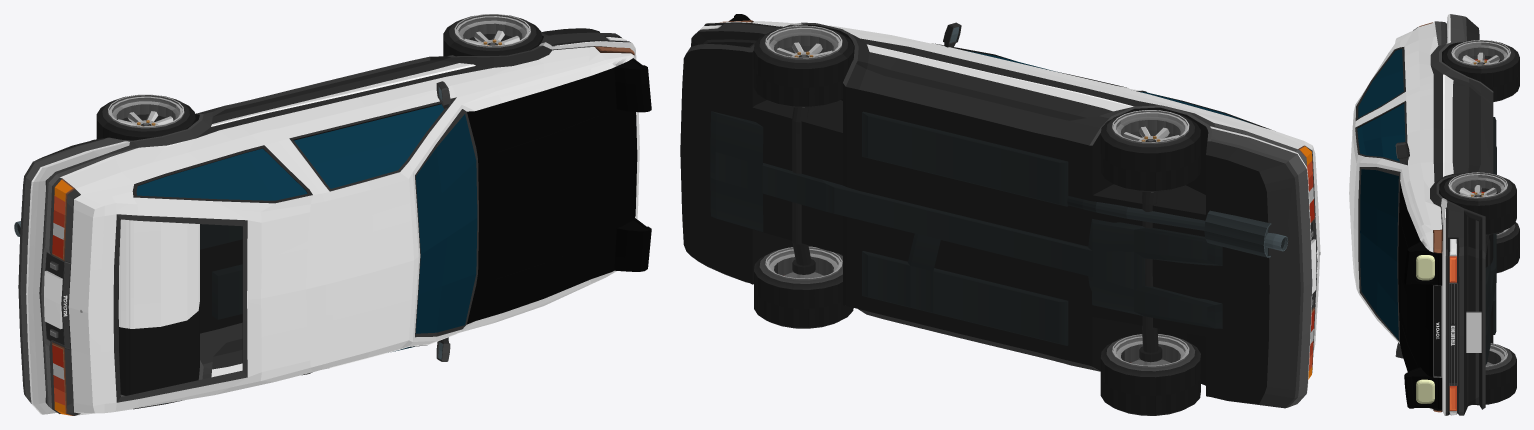
Rendered from AE86_FULL.glb.
3 views of the same model, side by side, from view 1: azimuth 30°, elevation 25°; view 2: azimuth 150°, elevation 25°; view 3: azimuth 270°, elevation 25° (orthographic). The views are drawn at different scales.
Visible parts, largest first — view 1: body.001, rear_left.001, front_left.001; view 2: body.001, rear_left.001, front_left.001, rear_right.001, front_right.001; view 3: body.001, front_left.001, rear_left.001, front_right.001, rear_right.001.
Boxes of the visible parts, x1,y1,x2,y2 form: body.001: (14, 28, 651, 415); rear_left.001: (96, 94, 195, 140); front_left.001: (443, 14, 542, 56); body.001: (680, 14, 1320, 408); rear_left.001: (1100, 110, 1200, 192); front_left.001: (753, 25, 853, 107); rear_right.001: (1100, 334, 1200, 415); front_right.001: (754, 246, 853, 328); body.001: (1349, 14, 1496, 415); front_left.001: (1439, 172, 1516, 235); rear_left.001: (1442, 40, 1519, 101); front_right.001: (1472, 343, 1516, 405); rear_right.001: (1496, 222, 1519, 272).
Size of the model in its own units: 18.61 by 8.1 by 5.8.
6 materials, 2 textured.
